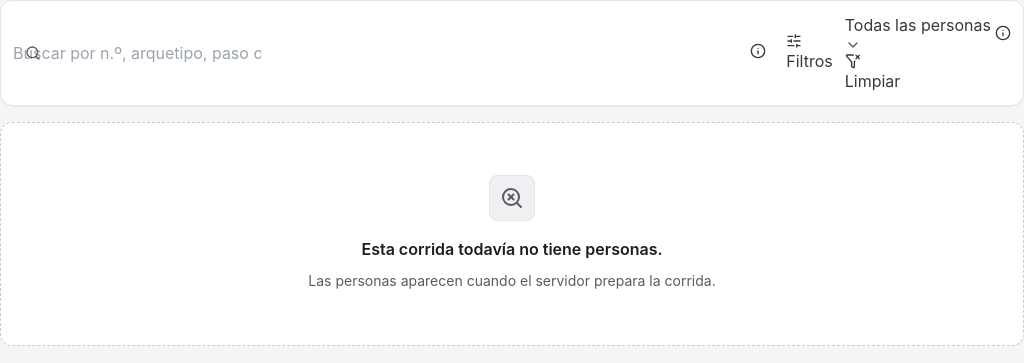
Test case: PersonaStepResults · tabla de personas con la disciplina de las demás › sin coincidencias dice que nada coincide; sin personas, que la corrida no las tiene
This screenshot has width=1024, height=363.
Expected: the heading "Esta corrida todavía no tiene personas." is shown, x1=361 y1=237 x2=662 y2=261
Type "nadie" into the field labelled "Buscar por n.º, arquetipo, paso o motivo…" at (137, 53), box x1=13 y1=41 x2=261 y2=65
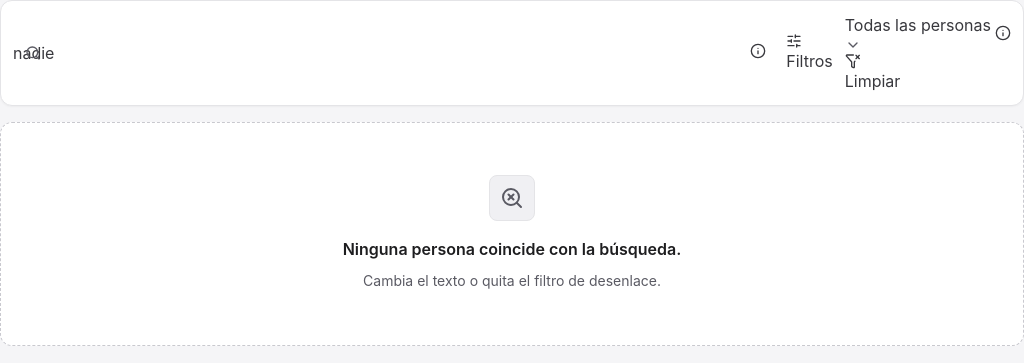
Expected: the heading "Ninguna persona coincide con la búsqueda." is shown, x1=343 y1=237 x2=681 y2=261
